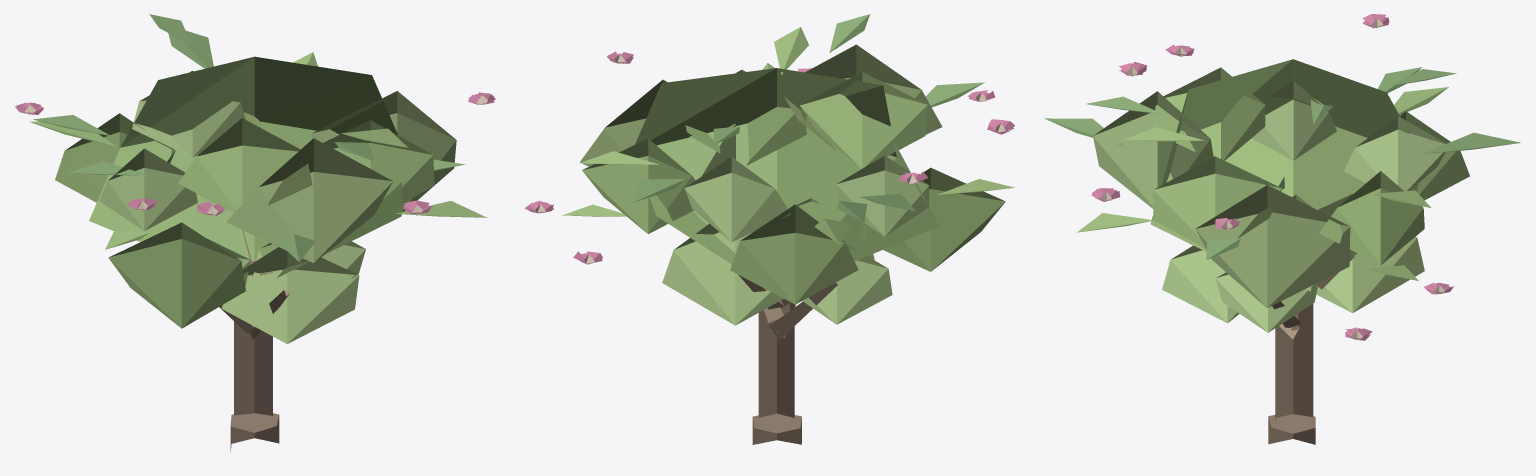
The model's file is shu.wujiaofeng@flowering__bloom.glb.
3 views of the same model, side by side, from view 1: azimuth 30°, elevation 25°; view 2: azimuth 150°, elevation 25°; view 3: azimuth 270°, elevation 25° (orthographic). The views are drawn at different scales.
Visible parts, largest first — view 1: shu.wujiaofeng@flowering__bloom; view 2: shu.wujiaofeng@flowering__bloom; view 3: shu.wujiaofeng@flowering__bloom.
Boxes of the visible parts, x1,y1,x2,y2 form: shu.wujiaofeng@flowering__bloom: (14,14,495,451); shu.wujiaofeng@flowering__bloom: (524,14,1014,444); shu.wujiaofeng@flowering__bloom: (1044,14,1521,444).
Bounding box in the file's own units: 12.02 × 10.46 × 12.31.
